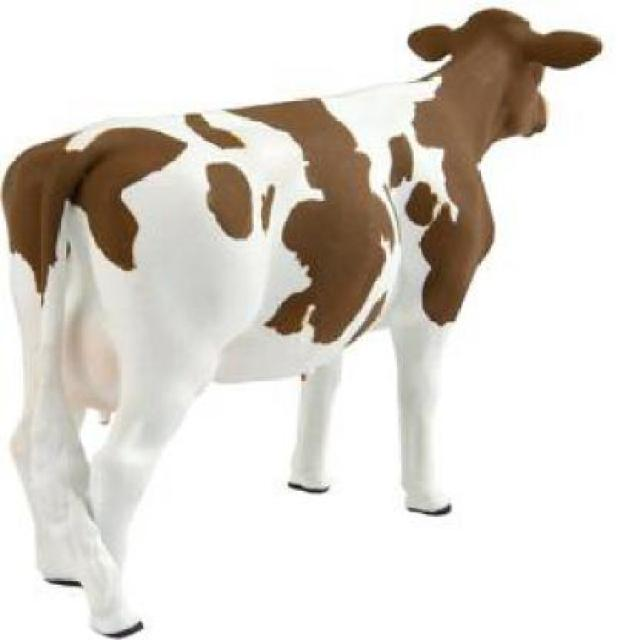Cow: (3, 4, 611, 638)
